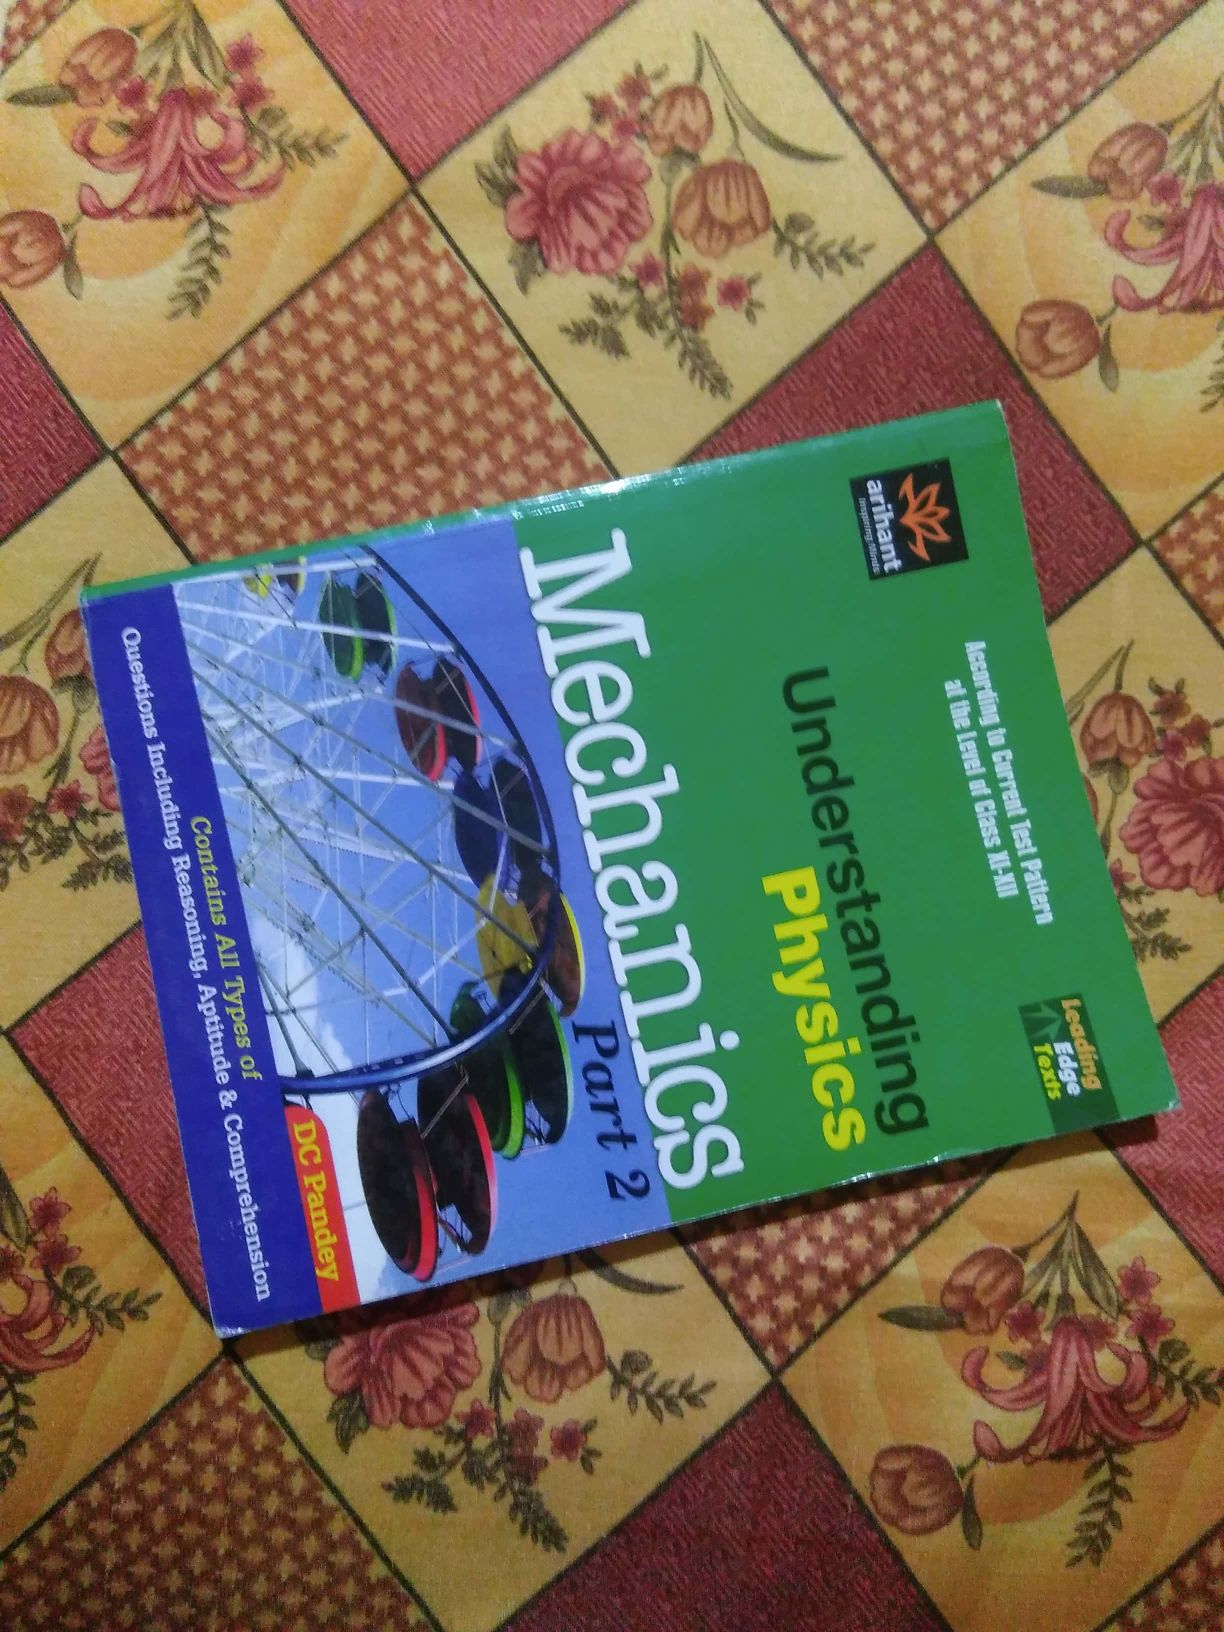mechanics: (84, 454, 1224, 1333)
